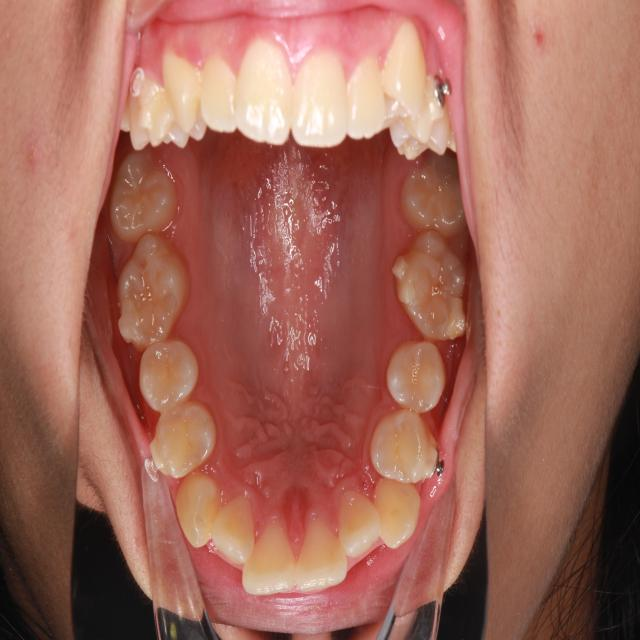tooth: (111, 223, 196, 361), (388, 218, 470, 348), (109, 149, 187, 253), (143, 389, 225, 485), (232, 502, 304, 610), (133, 323, 204, 419), (286, 500, 351, 603), (397, 161, 470, 248), (376, 337, 454, 416), (370, 407, 442, 488), (208, 480, 262, 568), (171, 464, 224, 553), (368, 470, 421, 551), (333, 473, 381, 562)
